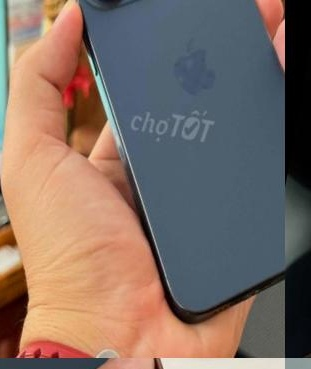scratch: (295, 312, 311, 358)
